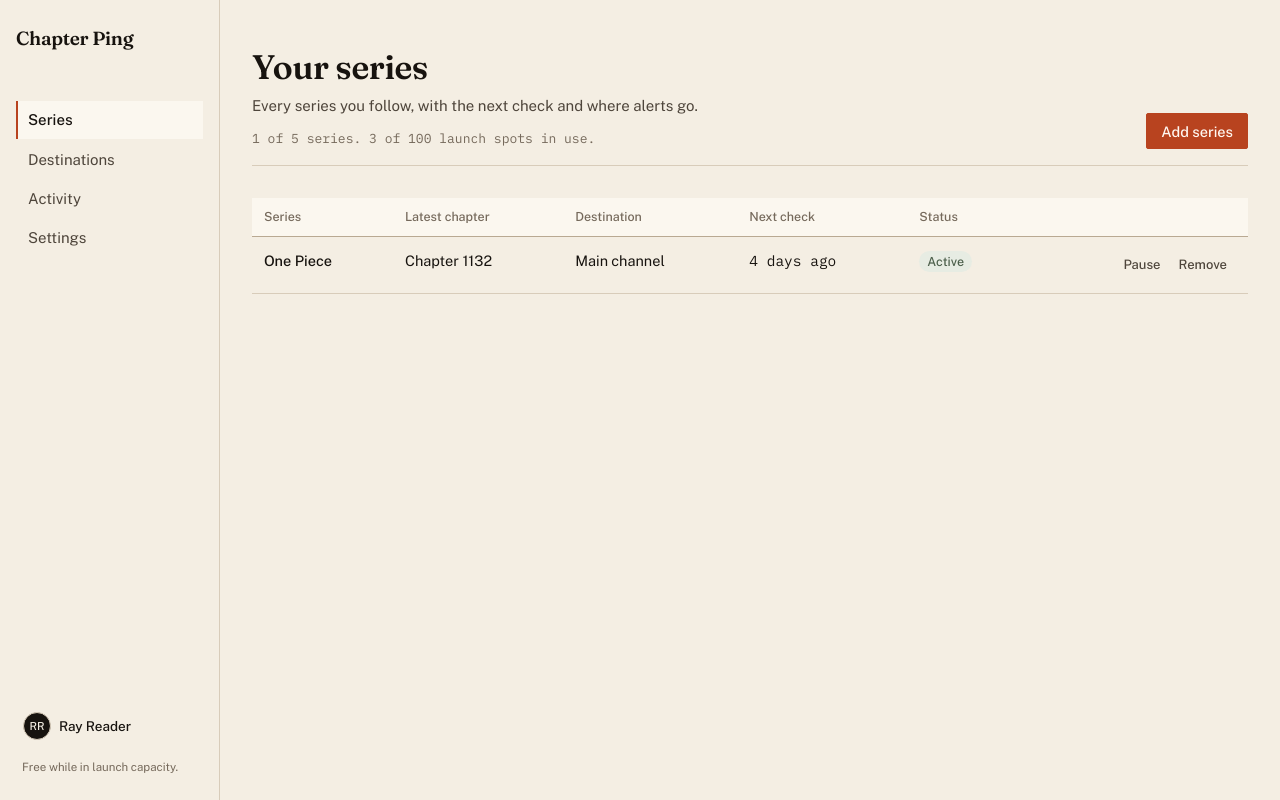
series actions › pauses a series and reflects the new state
Check: the link "One Piece" is shown, box [264,252,332,270]
Click the button with aria-label "Pause One Piece".
click(1142, 265)  # box [1114,250,1170,280]
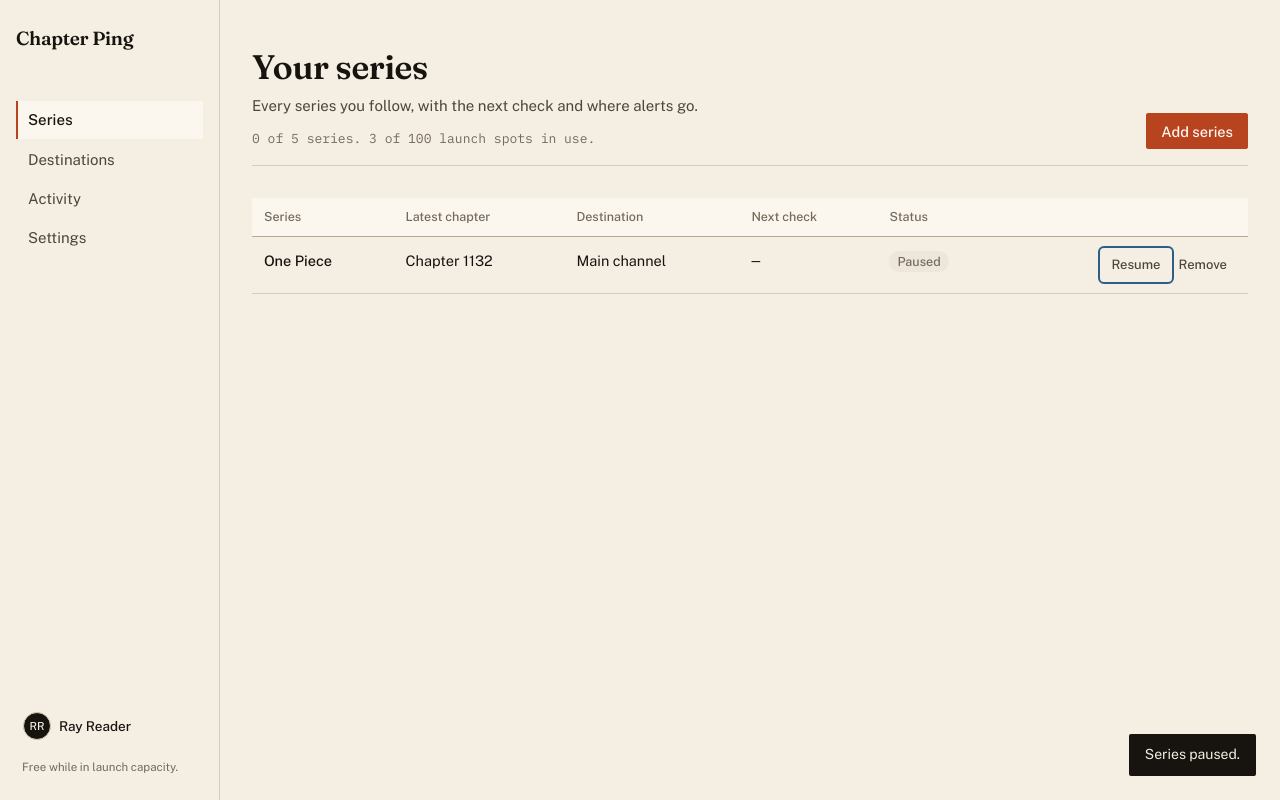
Check: the text "Paused" is shown, box [890,251,949,272]
